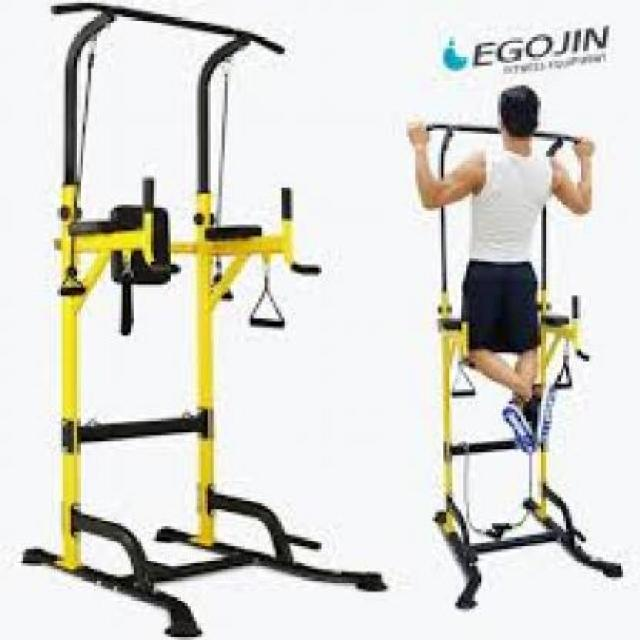chinning dipping: (21, 5, 388, 637), (403, 83, 625, 608)
